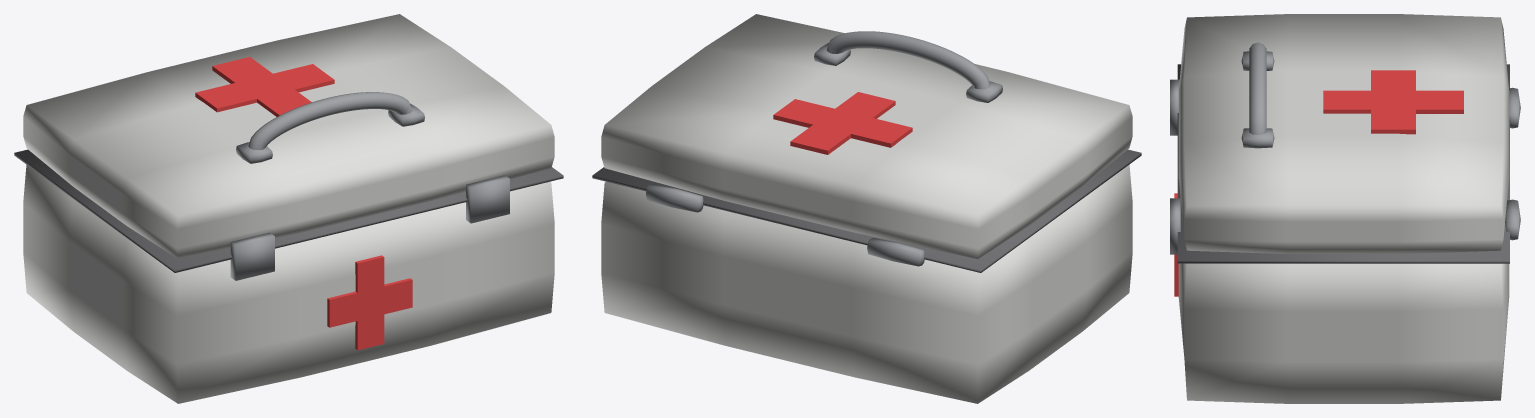
File: medkit.glb
3 views of the same model, side by side, from view 1: azimuth 30°, elevation 25°; view 2: azimuth 150°, elevation 25°; view 3: azimuth 270°, elevation 25° (orthographic). The views are drawn at different scales.
Parts seen in each view (by area): view 1: Lid, Medkit; view 2: Lid, Medkit; view 3: Lid, Medkit.
Part boxes in pixels (bbox=[...]): Lid: bbox=[23, 14, 554, 259]; Medkit: bbox=[14, 149, 563, 403]; Lid: bbox=[601, 14, 1132, 259]; Medkit: bbox=[592, 149, 1141, 403]; Lid: bbox=[1178, 14, 1509, 253]; Medkit: bbox=[1170, 64, 1520, 403].
Bounding box in the file's own units: 0.281 × 0.1675 × 0.2122.
